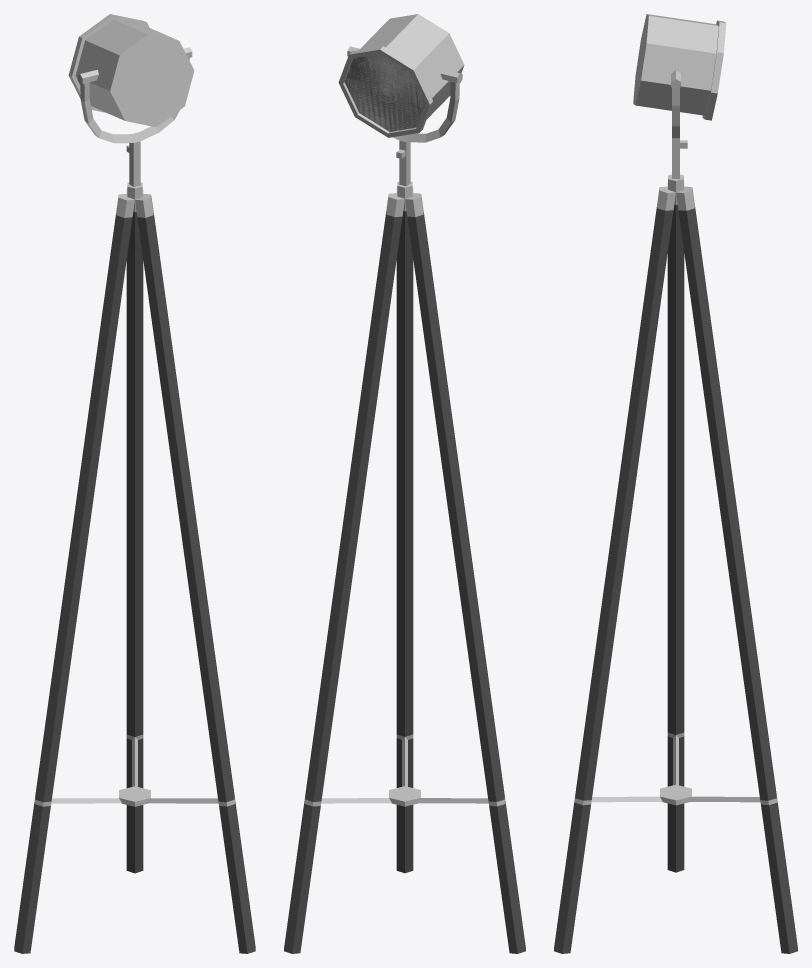
The model's file is Lamp_Spotlight.fbx.
3 renders of one model, left to right at view 1: azimuth 30°, elevation 25°; view 2: azimuth 150°, elevation 25°; view 3: azimuth 270°, elevation 25°, orthographic.
Parts seen in each view (by area): view 1: Lamp_Spotlight; view 2: Lamp_Spotlight; view 3: Lamp_Spotlight.
Boxes of the visible parts, box(x1,y1,x2,y2) form: Lamp_Spotlight: box(14, 14, 255, 953); Lamp_Spotlight: box(284, 14, 525, 953); Lamp_Spotlight: box(554, 14, 797, 953).
Bounding box in the file's own units: 20.73 × 96.21 × 23.41.
